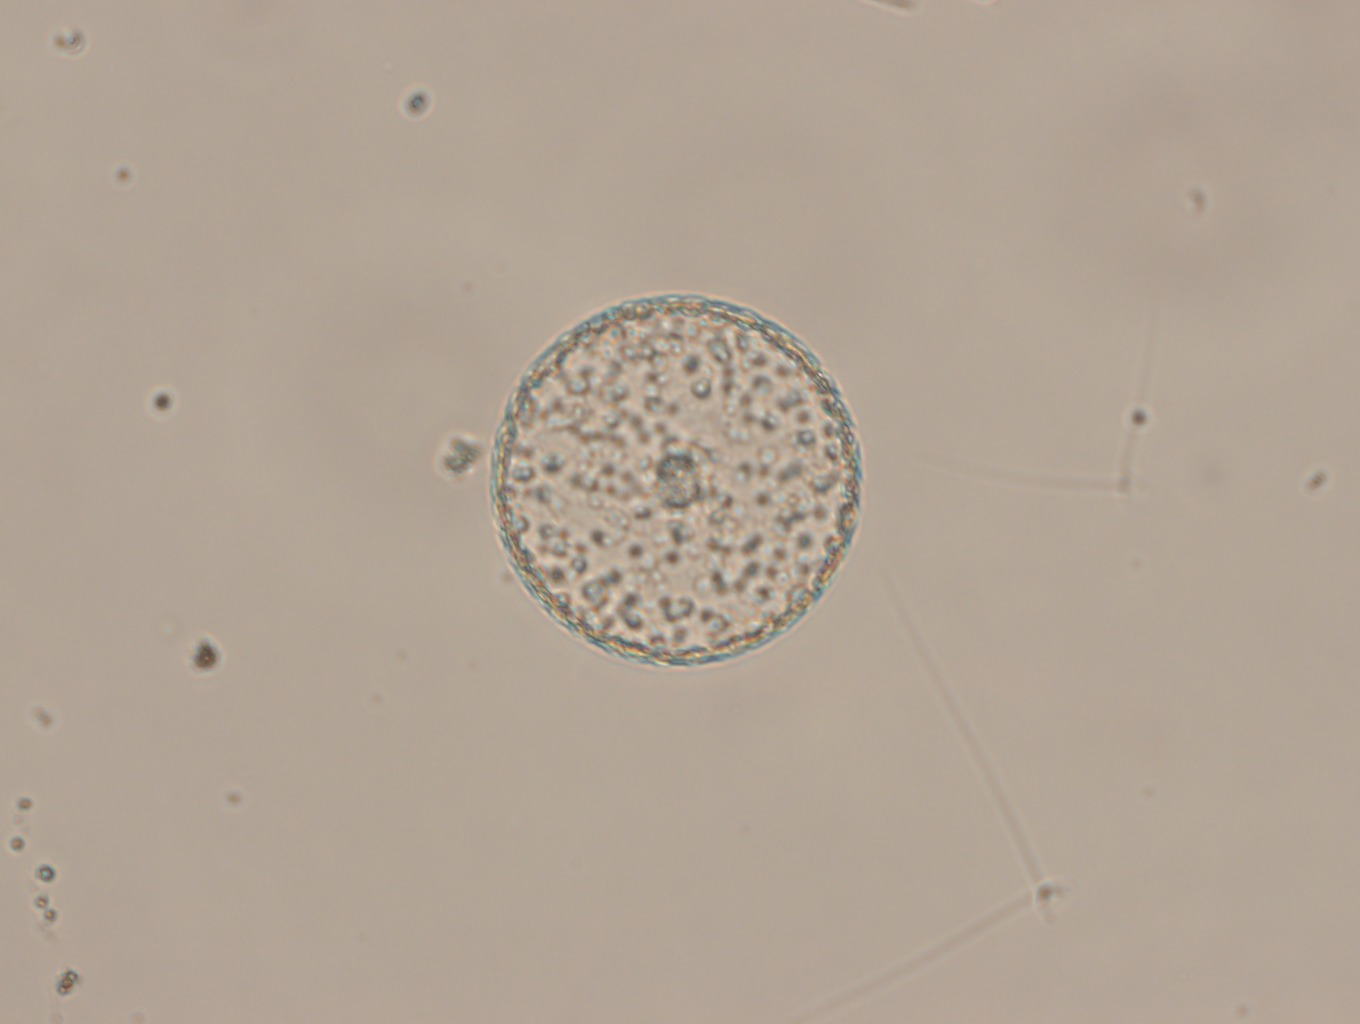coscinodiscus: (488, 288, 867, 669)
